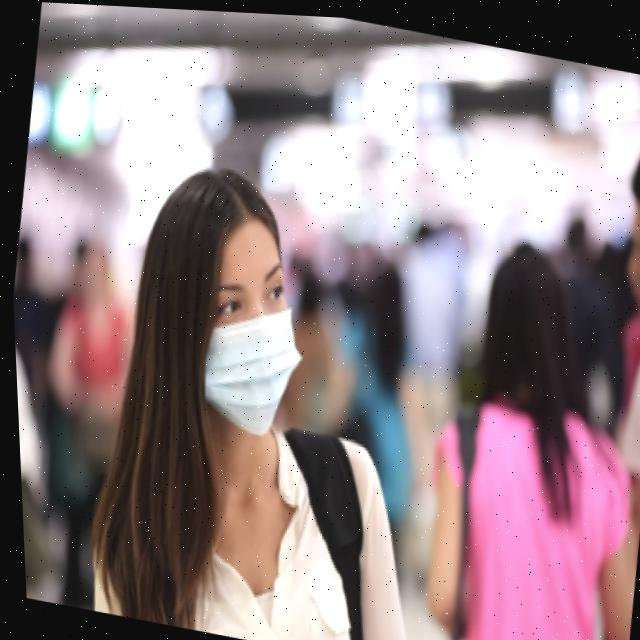Mask: (181, 296, 307, 438)
